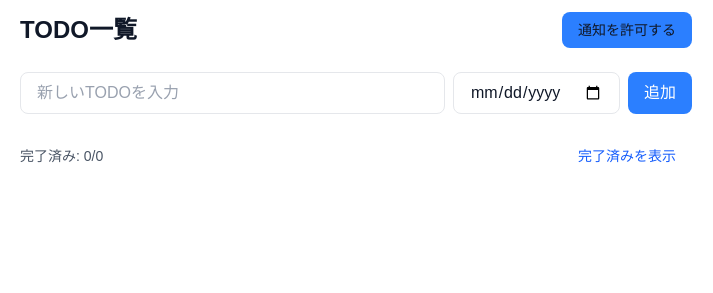
it: TodoList › adds a new todo
Step 1. Type "新しいTODO" into the field with placeholder "新しいTODOを入力" → (232, 93), box [20, 72, 445, 114]
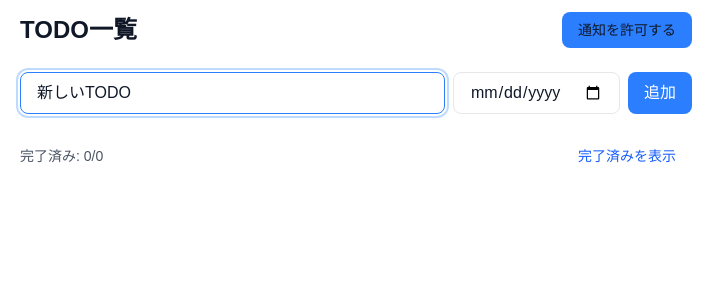
Step 2. Click the button "追加" → (660, 93), box [628, 72, 692, 114]
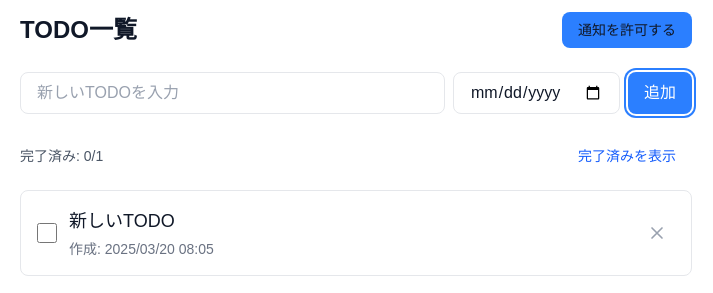
Result: the heading "新しいTODO" is shown at [69, 211, 175, 231]
